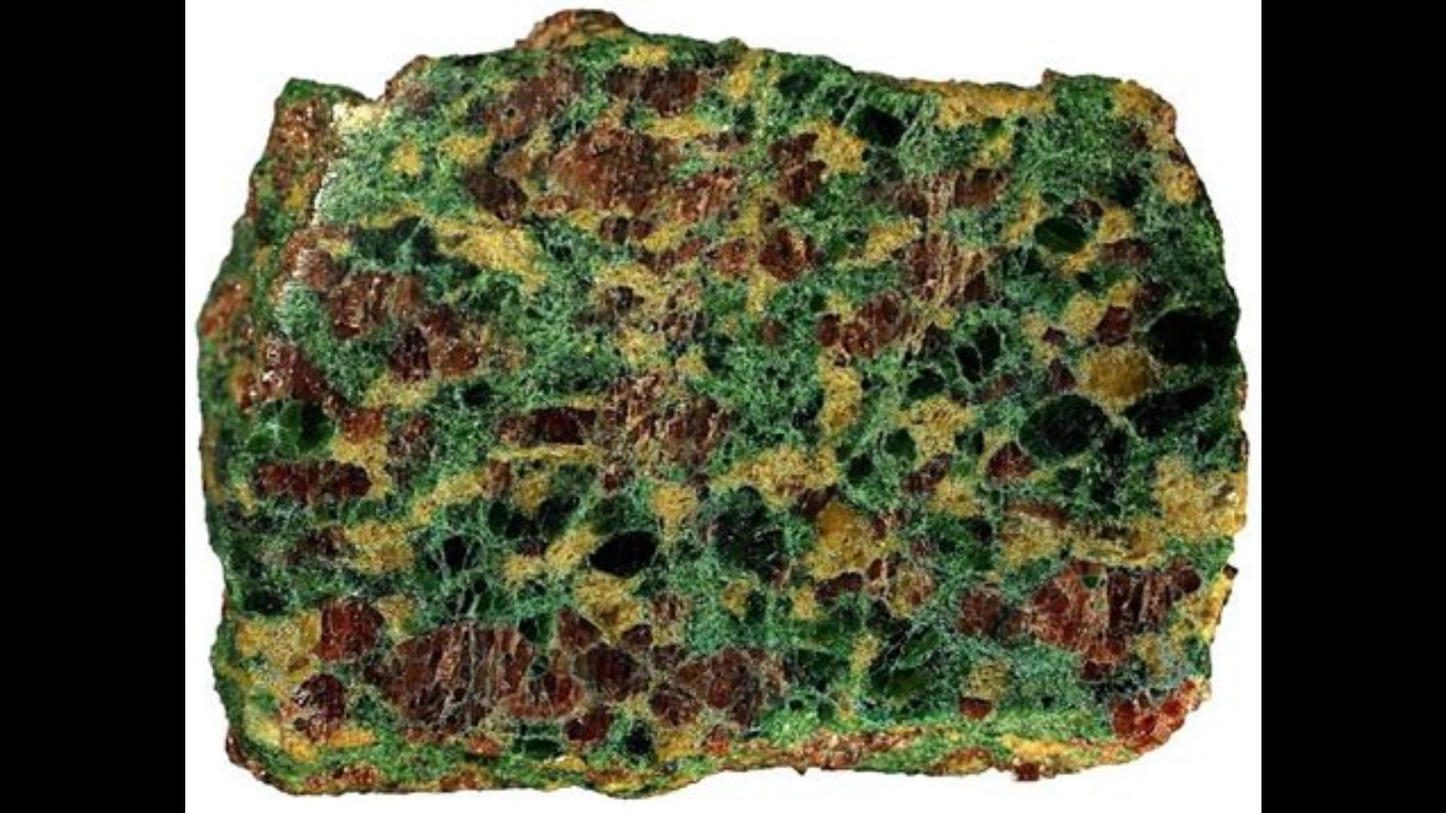rock: (198, 11, 1243, 793)
